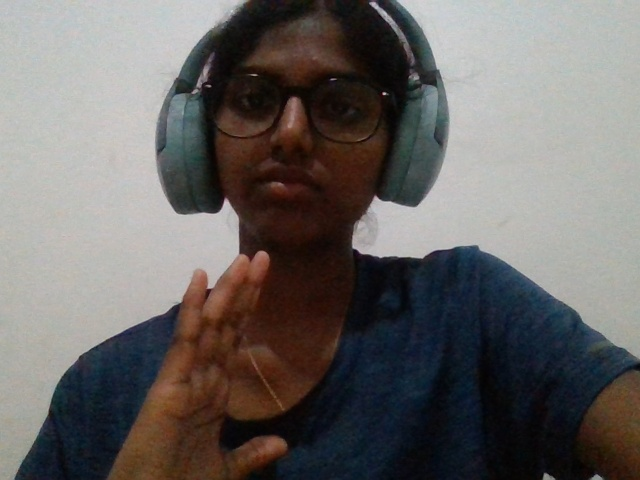Fine: (128, 249, 309, 480)
